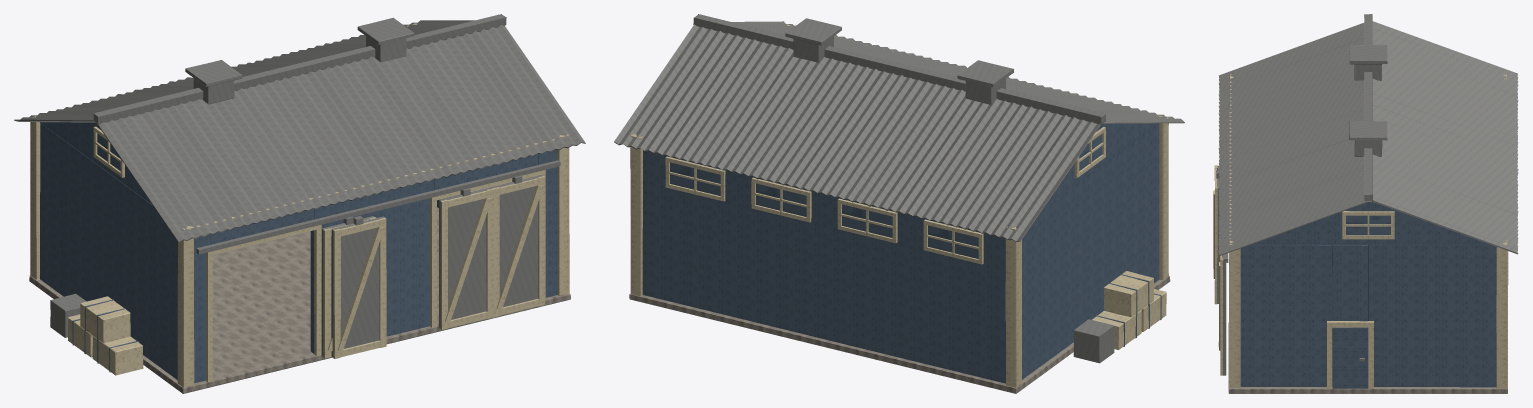
Rendered from warehouse.glb.
3 renders of one model, left to right at view 1: azimuth 30°, elevation 25°; view 2: azimuth 150°, elevation 25°; view 3: azimuth 270°, elevation 25°, orthographic. The views are drawn at different scales.
Parts seen in each view (by area): view 1: Warehouse; view 2: Warehouse; view 3: Warehouse.
Part boxes in pixels (x1,y1,x2,y2): Warehouse: [14, 14, 585, 393]; Warehouse: [614, 14, 1184, 393]; Warehouse: [1213, 14, 1518, 393].
Bounding box in the file's own units: 13.99 × 7.47 × 9.48.
Materials: 4 (4 with a texture image).
